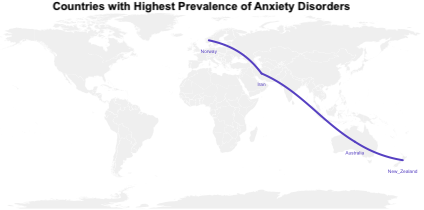

Layout of this report page (visuals, bound fields, positions):
{"tool":"tableau","page":{"name":"Dashboard 1","canvas":[1000,800],"ordinal":0},"visuals":[{"type":"worksheet","title":"Sheet 4","mark":"Automatic","box":[8,8,824,784]},{"type":"legend","title":"Sheet 4","param":"[federated.0pt2vkq0hfuvb31849lue0dyv85i].[sum:prevalence:qk]","box":[832,8,160,65]}]}

Visuals, with their boxes on the page's 1000x800 design canvas (x1, y1, x2, y2). These are canvas units, not pixel positions in the 424x210 screenshot, which may show the page scaled, cropped or inside an application window:
"Sheet 4" worksheet: <bbox>8, 8, 832, 792</bbox>
"Sheet 4" legend: <bbox>832, 8, 992, 73</bbox>
